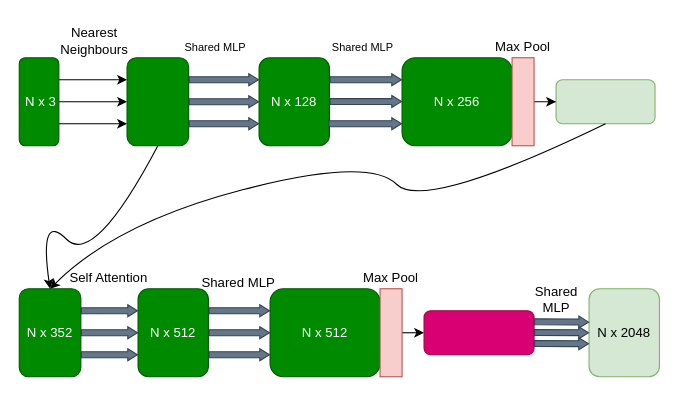
This 679x396 diagram has some shape labels left out. Each missing label, with the box of its shape:
Global Featur Vector: (555, 79, 655, 124)
Latent Encoding: (423, 310, 534, 355)
N x 96: (126, 57, 189, 146)
